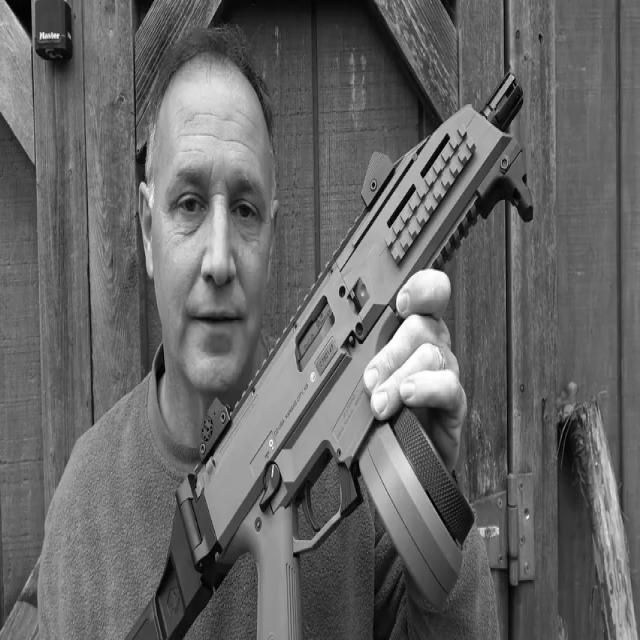Sub-machine-gun: (116, 35, 537, 640)
